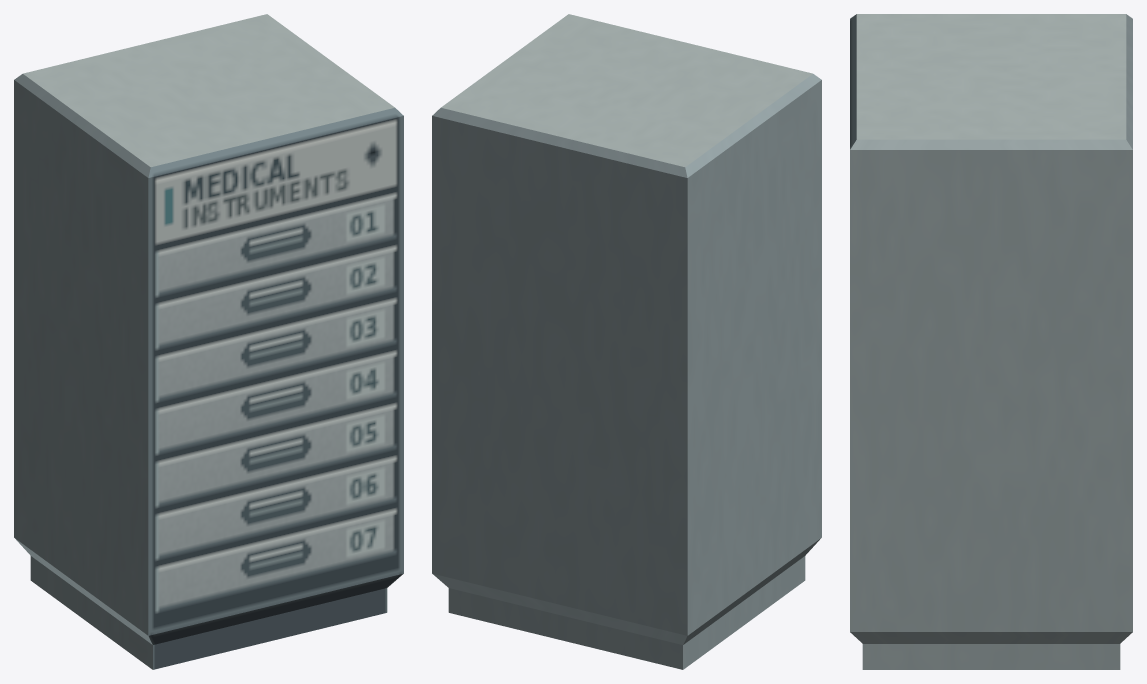
File: Medical_Instrument_Cabinet.glb
3 views of the same model, side by side, from view 1: azimuth 30°, elevation 25°; view 2: azimuth 150°, elevation 25°; view 3: azimuth 270°, elevation 25° (orthographic). The views are drawn at different scales.
Visible parts, largest first — view 1: Medical_Instrument_Cabinet; view 2: Medical_Instrument_Cabinet; view 3: Medical_Instrument_Cabinet.
Part boxes in pixels (bbox=[...]): Medical_Instrument_Cabinet: bbox=[14, 14, 403, 669]; Medical_Instrument_Cabinet: bbox=[432, 14, 821, 669]; Medical_Instrument_Cabinet: bbox=[850, 14, 1132, 669].
Size of the model in its own units: 0.56 by 1.06 by 0.51.
1 material, 1 textured.
